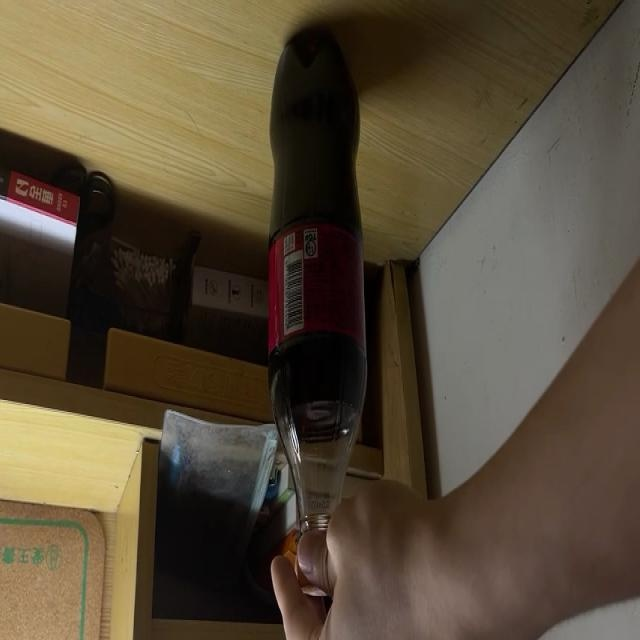Coca-Cola: (266, 34, 368, 598)
